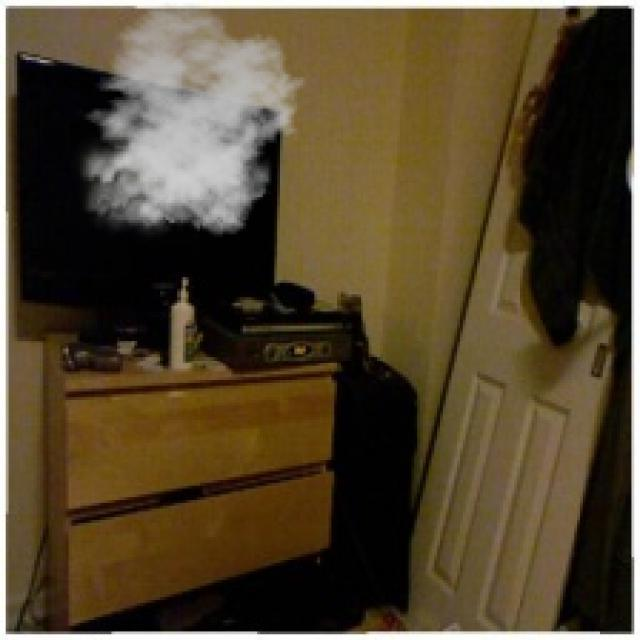Smoke: (68, 3, 306, 243)
